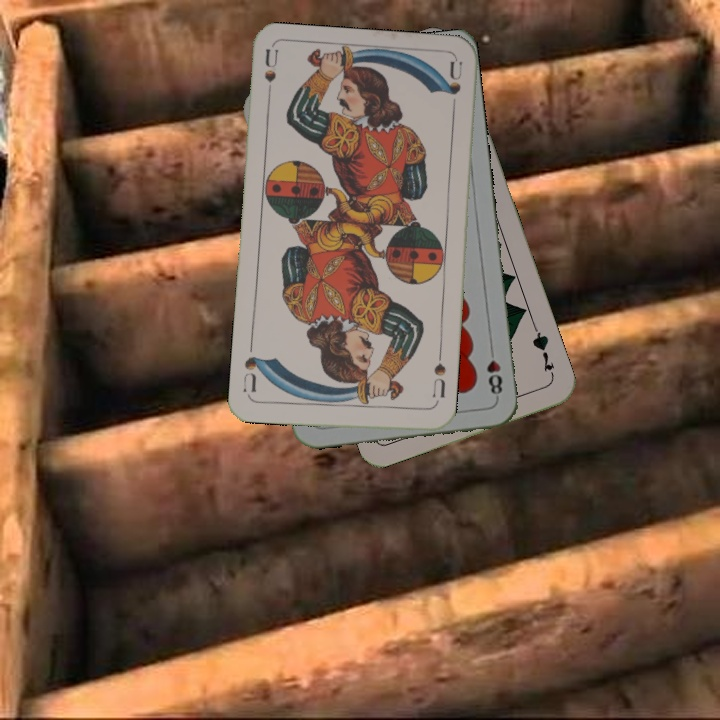G7: (528, 324, 558, 381)
H8: (483, 342, 505, 401)
SU: (260, 47, 281, 106), (428, 359, 449, 408)
